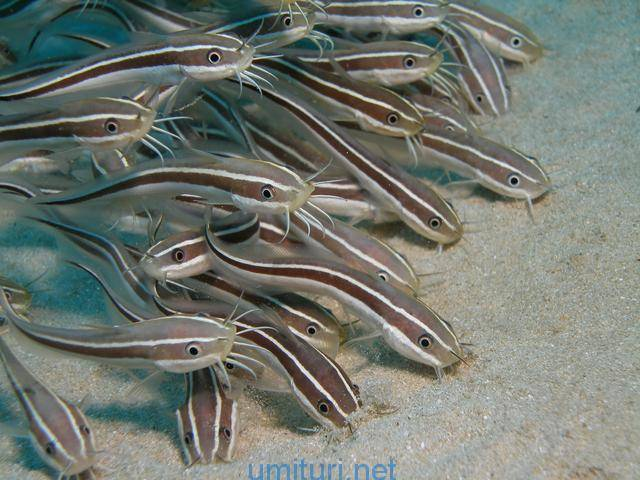gonzui: (29, 155, 329, 231), (8, 293, 244, 374), (8, 34, 280, 93)
